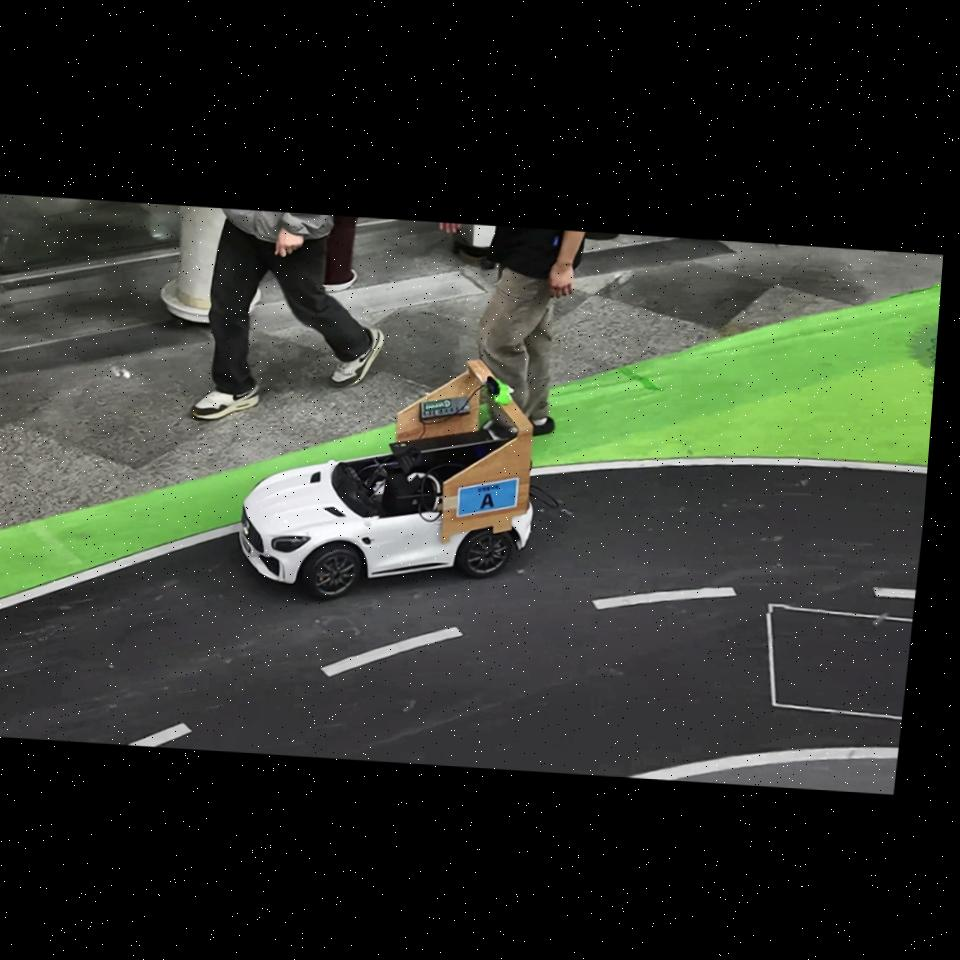broken_line: (320, 626, 463, 677), (591, 587, 737, 610), (128, 722, 192, 746), (873, 587, 915, 599)
